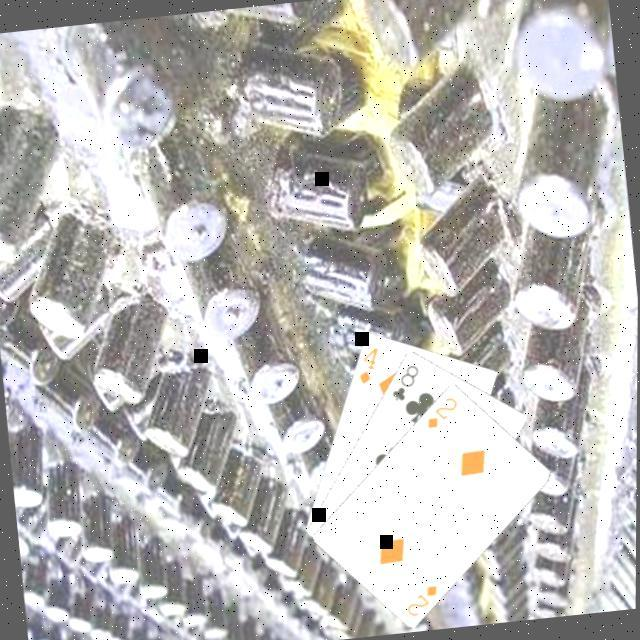2D: (422, 393, 464, 432), (402, 582, 444, 621)
4D: (353, 343, 385, 388)
8C: (387, 361, 426, 405)
